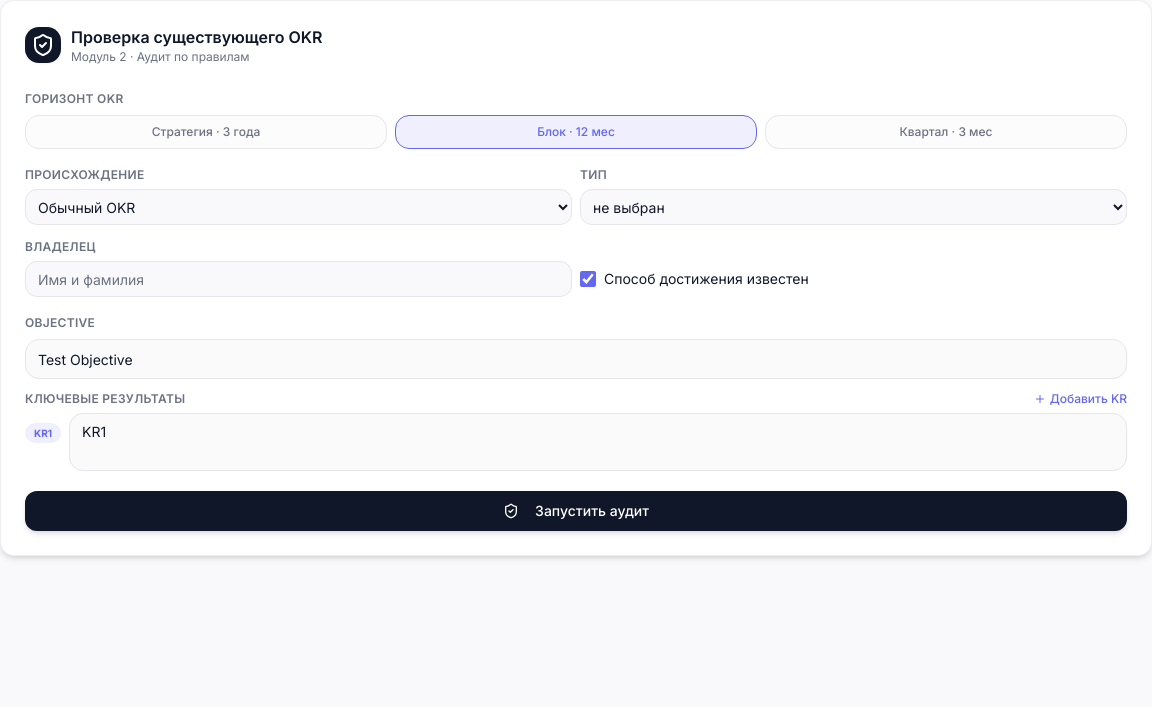
OkrValidator (Module 2) › НЕ рендерит бейдж модели, если report.model_used отсутствует
Click the button "Запустить аудит" at (576, 511), box [25,491,1127,531]
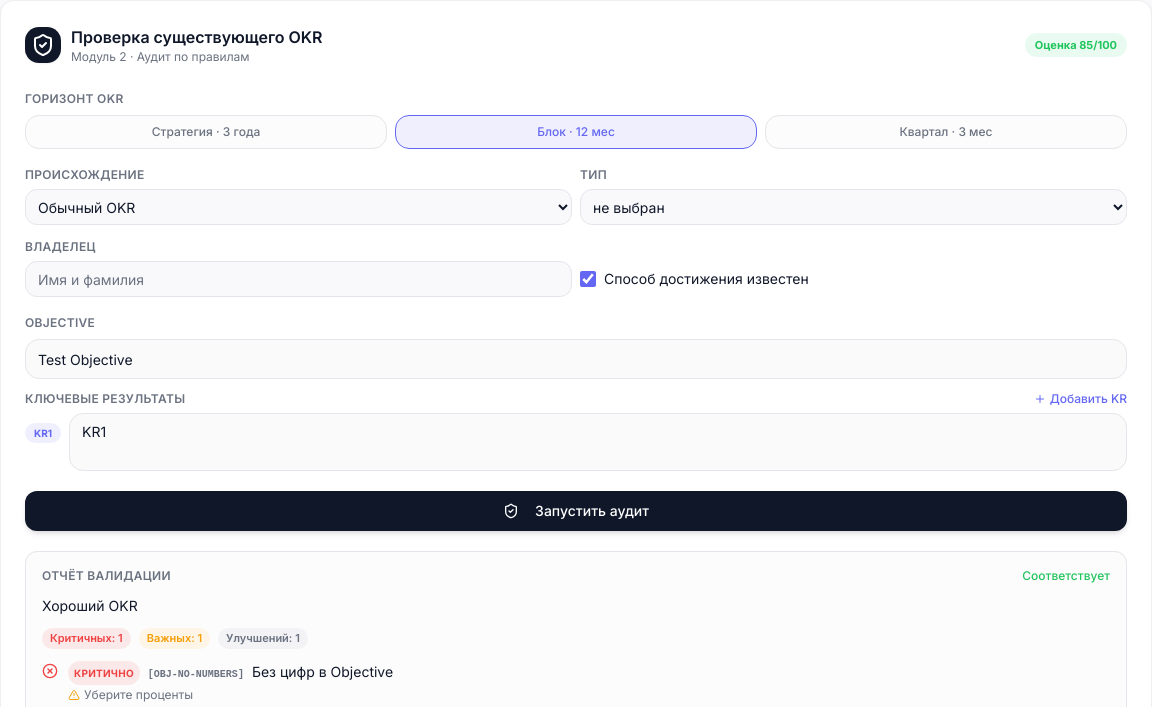
Expected: the text "Оценка 85/100" is shown, [1025,33,1127,57]
